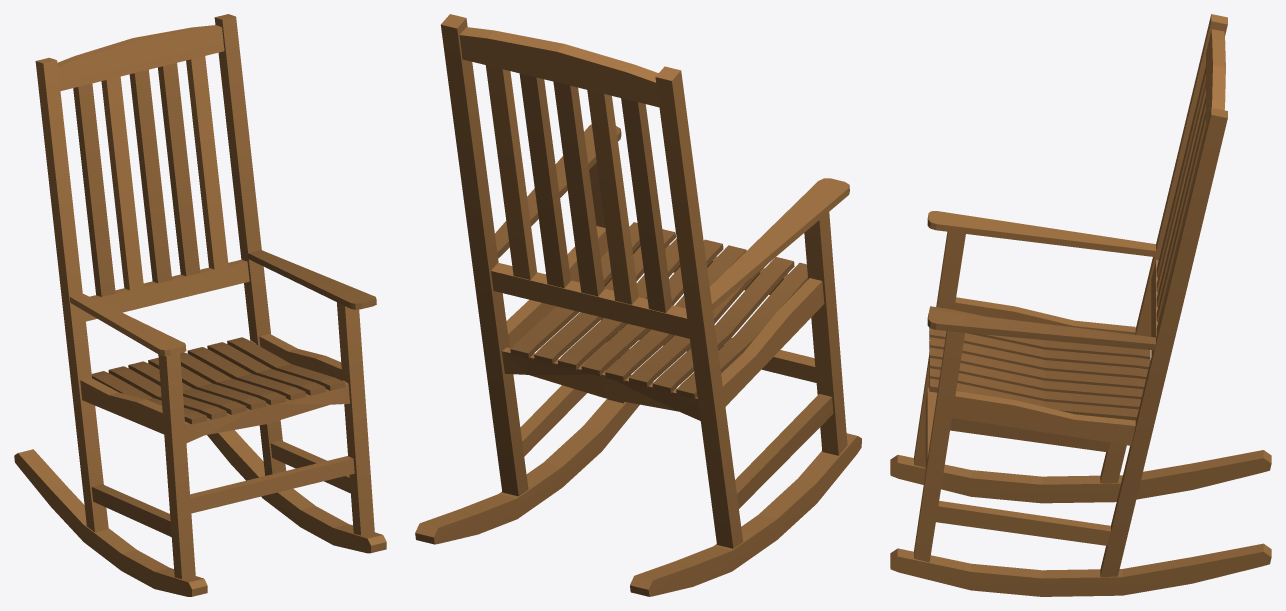
The model's file is Prop_Rocking_Chair_01.obj.
The picture shows the model from 3 angles, left to right: view 1: azimuth 30°, elevation 25°; view 2: azimuth 150°, elevation 25°; view 3: azimuth 270°, elevation 25°; orthographic projection. The views are drawn at different scales.
Parts seen in each view (by area): view 1: Prop_Rocking_Chair_01; view 2: Prop_Rocking_Chair_01; view 3: Prop_Rocking_Chair_01.
Part boxes in pixels (x1,y1,x2,y2): Prop_Rocking_Chair_01: (14,14,386,596); Prop_Rocking_Chair_01: (415,14,861,596); Prop_Rocking_Chair_01: (890,14,1271,596).
Bounding box in the file's own units: 0.5644 × 1.12 × 0.8056.
Materials: 1 (1 with a texture image).
